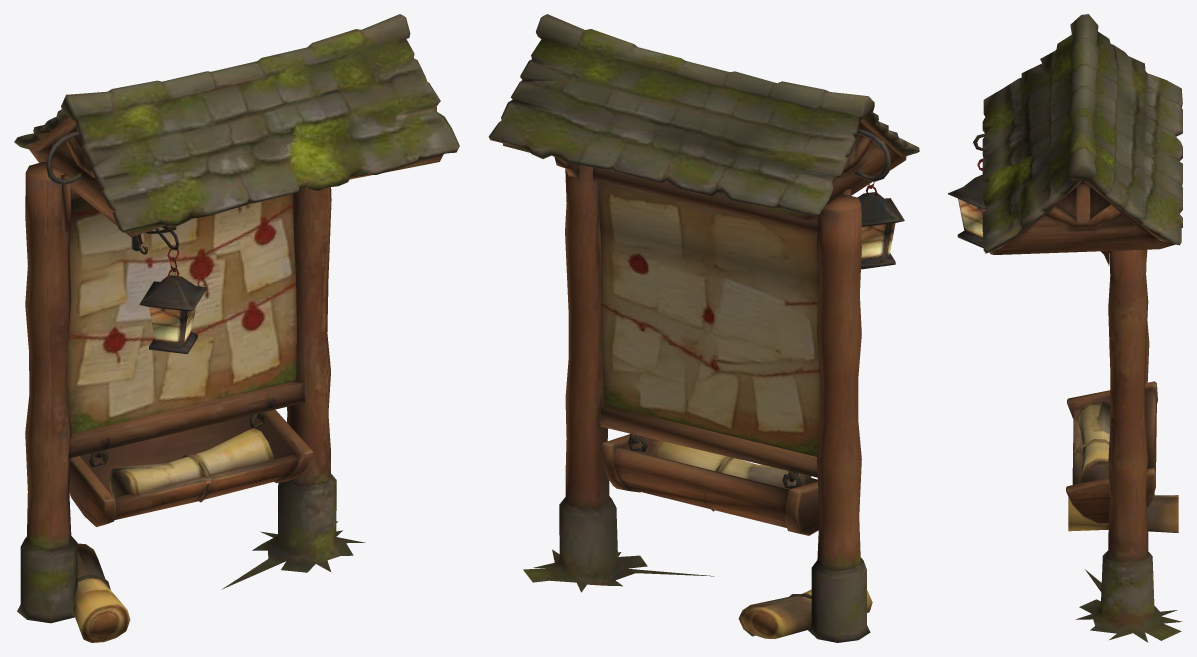
The model's file is wyn_quest_eastbrook_quest_board.glb.
3 views of the same model, side by side, from view 1: azimuth 30°, elevation 25°; view 2: azimuth 150°, elevation 25°; view 3: azimuth 270°, elevation 25° (orthographic). The views are drawn at different scales.
Parts seen in each view (by area): view 1: tripo_node_acc8ad81-faf0-4feb-9b78-814dcb39a750; view 2: tripo_node_acc8ad81-faf0-4feb-9b78-814dcb39a750; view 3: tripo_node_acc8ad81-faf0-4feb-9b78-814dcb39a750.
Part boxes in pixels (<box>): tripo_node_acc8ad81-faf0-4feb-9b78-814dcb39a750: <box>14,14,459,642</box>; tripo_node_acc8ad81-faf0-4feb-9b78-814dcb39a750: <box>488,14,919,642</box>; tripo_node_acc8ad81-faf0-4feb-9b78-814dcb39a750: <box>948,14,1182,642</box>.
Bounding box in the file's own units: 2.36 × 3.4 × 1.44.
Materials: 1 (1 with a texture image).
